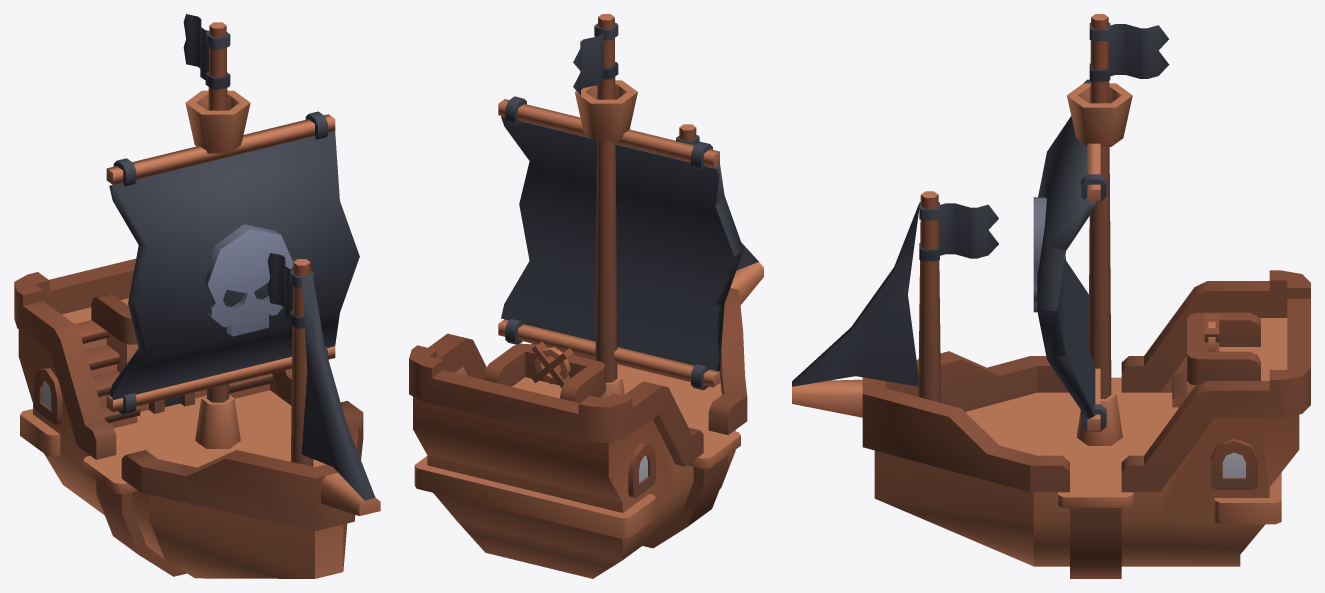
File: ship-pirate-small.glb
The picture shows the model from 3 angles, left to right: view 1: azimuth 30°, elevation 25°; view 2: azimuth 150°, elevation 25°; view 3: azimuth 270°, elevation 25°; orthographic projection. The views are drawn at different scales.
Visible parts, largest first — view 1: ship-pirate-small; view 2: ship-pirate-small; view 3: ship-pirate-small.
Part boxes in pixels (<box>): ship-pirate-small: <box>14,14,380,578</box>; ship-pirate-small: <box>409,14,763,578</box>; ship-pirate-small: <box>792,14,1310,578</box>.
Bounding box in the file's own units: 4.8 × 9.96 × 8.8.
